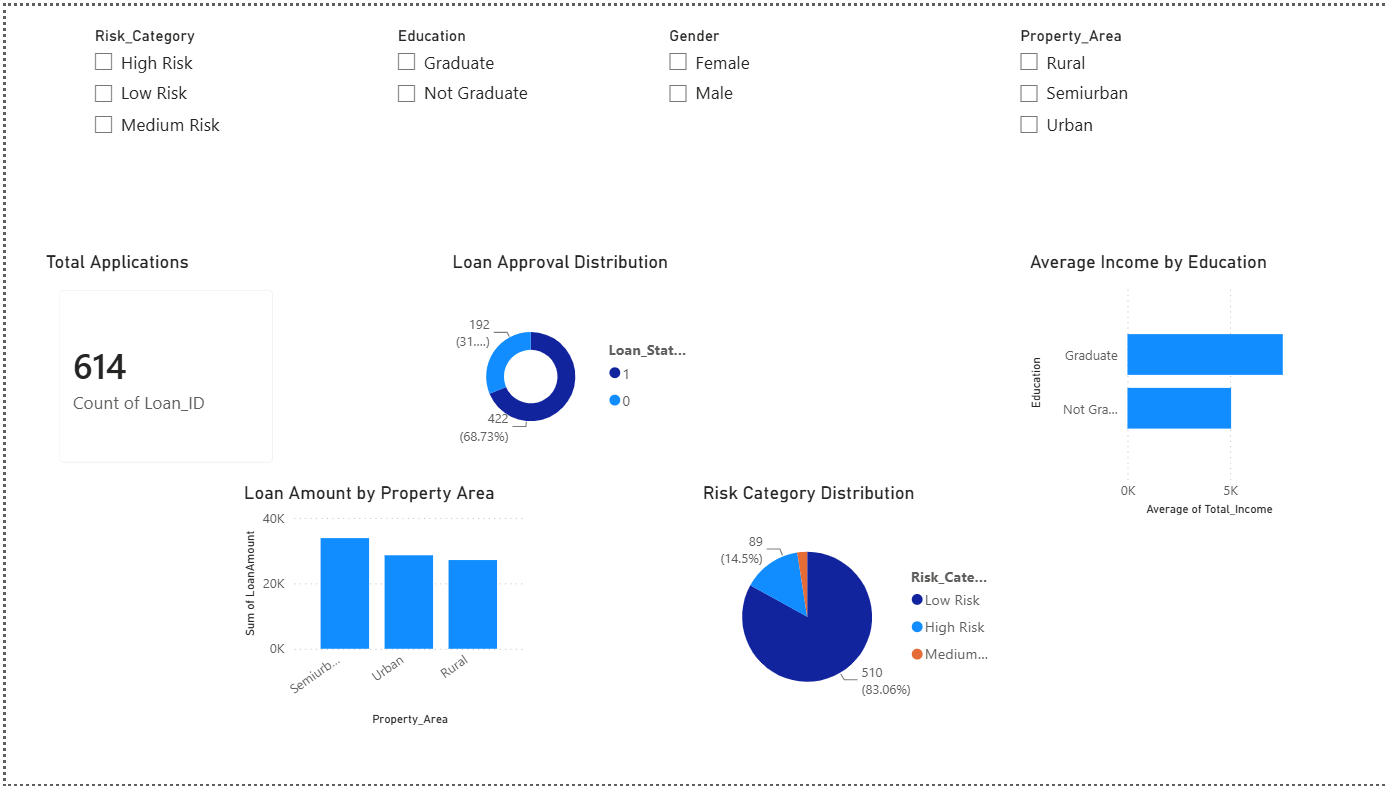

What the dashboard file says about the page in this screenshot:
{"tool":"powerbi","page":{"name":"Executive Dashboard","canvas":[1280,720],"ordinal":0},"visuals":[{"type":"cardVisual","title":"Total Applications","fields":{"Data":["CountNonNull(credit_risk_dashboard_data.Loan_ID)"]},"box":[32.1,226.8,232.4,213.5],"z":0},{"type":"donutChart","title":"Loan Approval Distribution","fields":{"Category":["credit_risk_dashboard_data.Loan_Status"],"Y":["CountNonNull(credit_risk_dashboard_data.Loan_ID)"]},"box":[408.2,226.8,232.4,213.5],"z":1000},{"type":"clusteredColumnChart","title":"Loan Amount by Property Area","fields":{"Category":["credit_risk_dashboard_data.Property_Area"],"Y":["Sum(credit_risk_dashboard_data.LoanAmount)"]},"box":[215.4,440.3,270.2,230.6],"z":2000},{"type":"clusteredBarChart","title":"Average Income by Education","fields":{"Category":["credit_risk_dashboard_data.Education"],"Y":["Avg(credit_risk_dashboard_data.Total_Income)"]},"box":[943,226.8,258.9,249.5],"z":3000},{"type":"pieChart","title":"Risk Category Distribution","fields":{"Category":["credit_risk_dashboard_data.Risk_Category"],"Y":["CountNonNull(credit_risk_dashboard_data.Loan_ID)"]},"box":[640.6,440.3,285.4,230.6],"z":4000},{"type":"slicer","fields":{"Values":["credit_risk_dashboard_data.Gender"]},"box":[600.9,13.2,230.6,213.5],"z":5000},{"type":"slicer","fields":{"Values":["credit_risk_dashboard_data.Property_Area"]},"box":[926,13.2,262.7,213.5],"z":6000},{"type":"slicer","fields":{"Values":["credit_risk_dashboard_data.Education"]},"box":[349.6,13.2,232.4,213.5],"z":7000},{"type":"slicer","fields":{"Values":["credit_risk_dashboard_data.Risk_Category"]},"box":[69.9,13.2,230.6,213.5],"z":8000}]}

Visuals, with their boxes in screenshot pixels (x1, y1, x2, y2), scaled from the page's 1280x720 canvas onto the 1387x786 screenshot:
"Total Applications" cardVisual: [left=35, top=248, right=287, bottom=481]
"Loan Approval Distribution" donutChart: [left=442, top=248, right=694, bottom=481]
"Loan Amount by Property Area" clusteredColumnChart: [left=233, top=481, right=526, bottom=732]
"Average Income by Education" clusteredBarChart: [left=1022, top=248, right=1302, bottom=520]
"Risk Category Distribution" pieChart: [left=694, top=481, right=1003, bottom=732]
slicer - credit_risk_dashboard_data.Gender: [left=651, top=14, right=901, bottom=247]
slicer - credit_risk_dashboard_data.Property_Area: [left=1003, top=14, right=1288, bottom=247]
slicer - credit_risk_dashboard_data.Education: [left=379, top=14, right=631, bottom=247]
slicer - credit_risk_dashboard_data.Risk_Category: [left=76, top=14, right=326, bottom=247]
